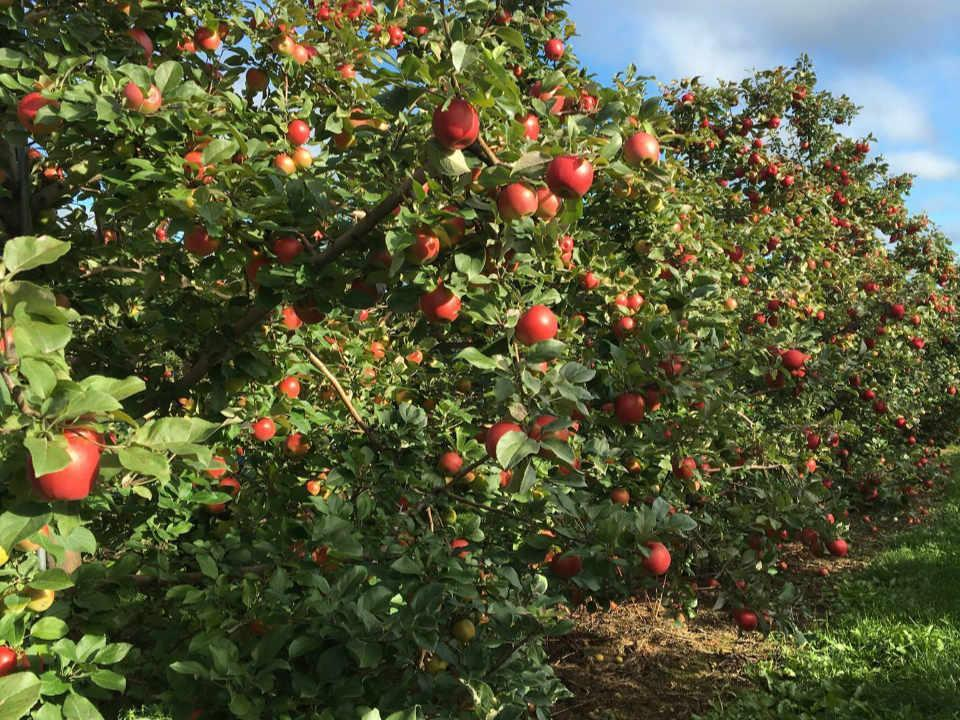apple: (27, 433, 100, 500), (431, 99, 479, 149), (548, 155, 592, 196), (513, 304, 556, 343), (423, 286, 461, 324), (622, 132, 660, 170), (642, 540, 671, 575)
